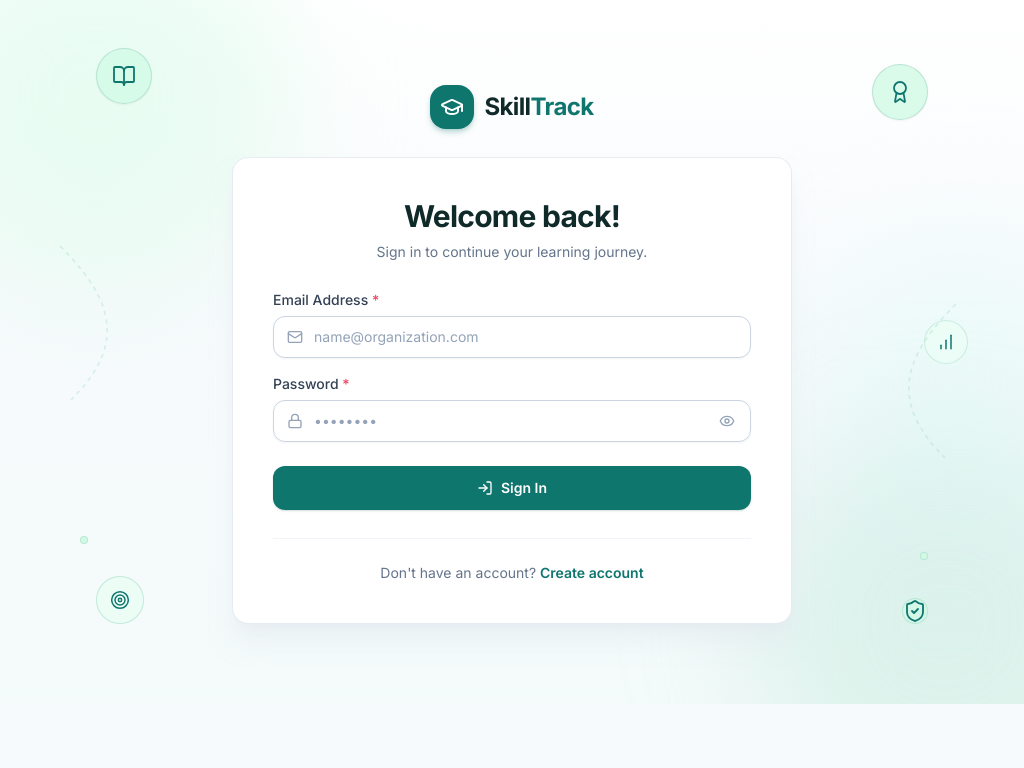
Test: LoginPage (Scenarios 10-16) › 12. displays validation error when password is empty
Type "user@example.com" into the field labelled "Email Address *" at (512, 336), box top-left (273, 316), bottom-right (751, 358)
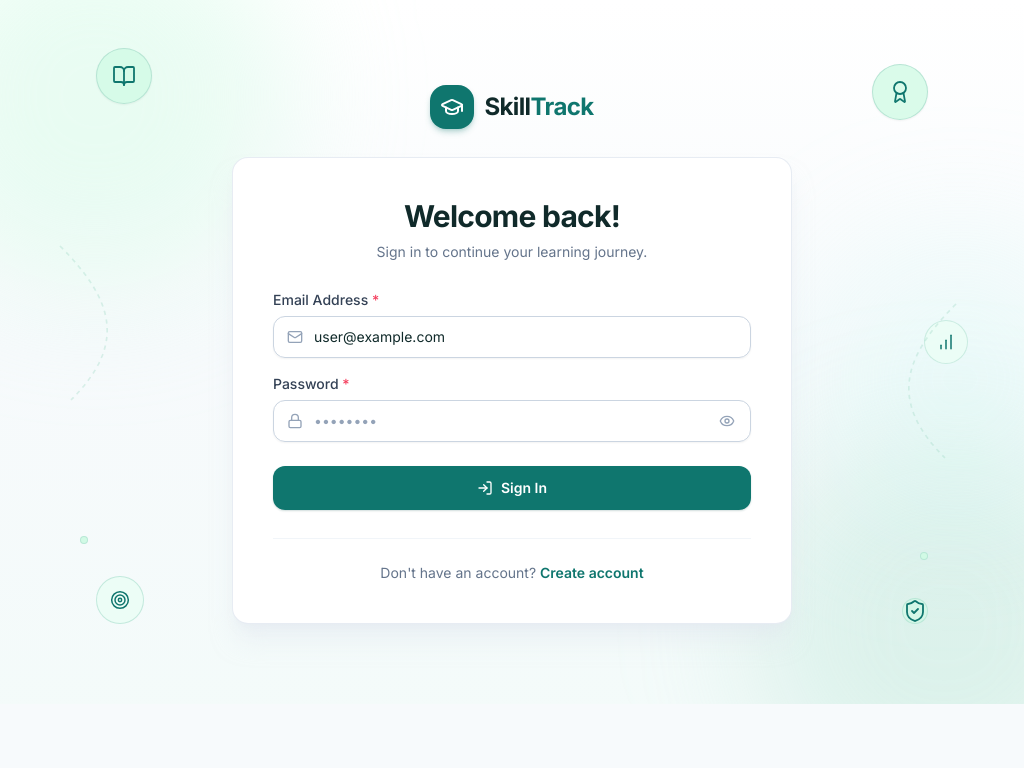
Click the button "Sign In" at (512, 488), box top-left (273, 466), bottom-right (751, 510)
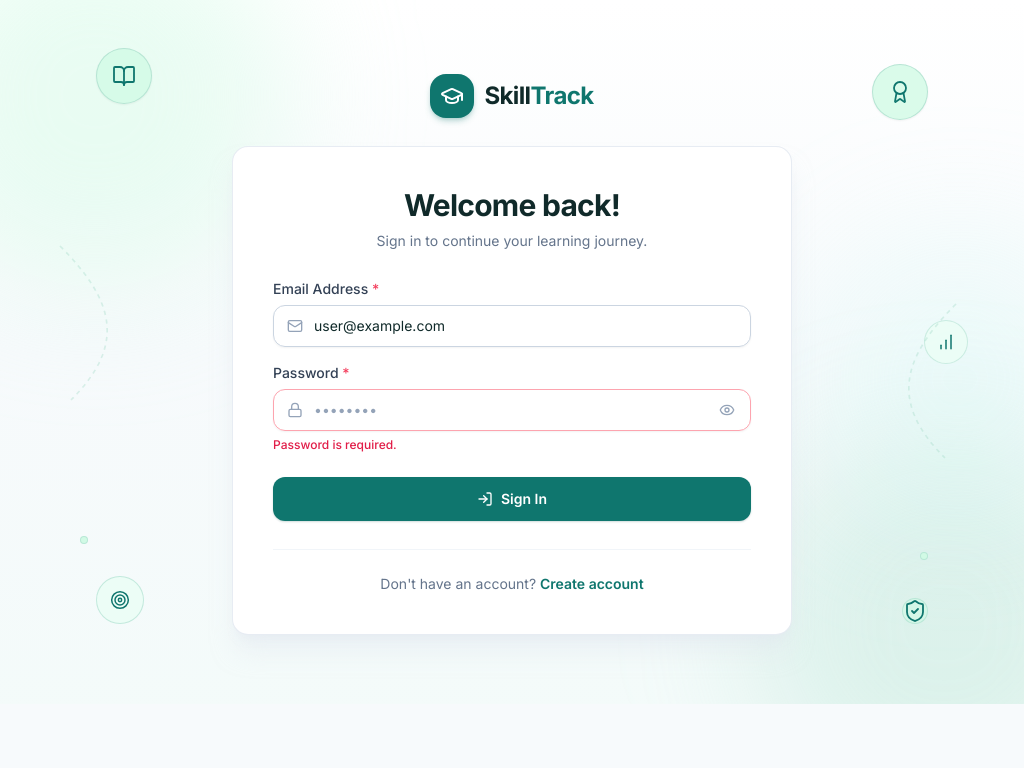
Expected: the text "Password is required." is shown, top-left (273, 436), bottom-right (397, 452)
